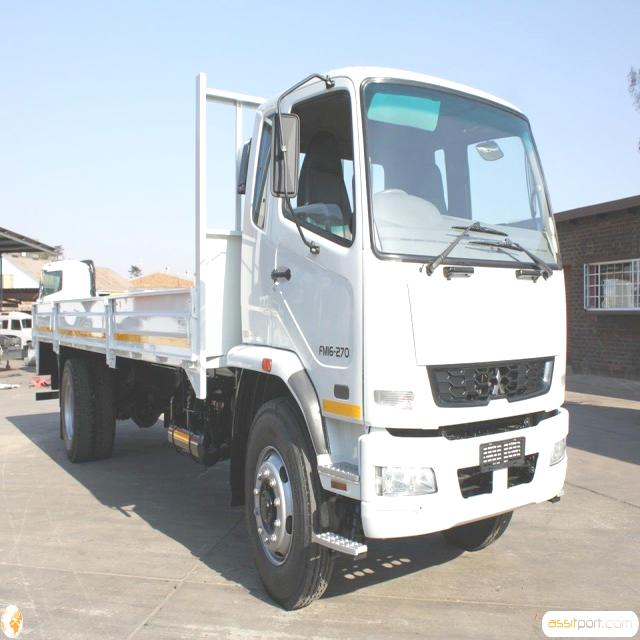truck: (32, 65, 573, 602)
